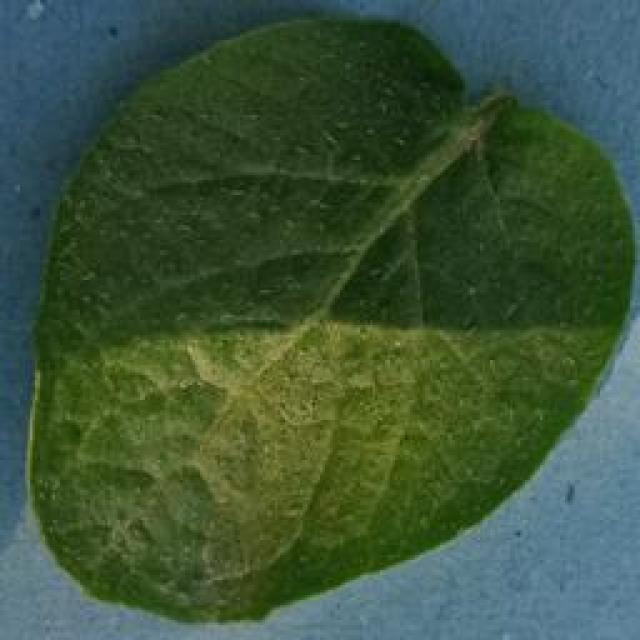Potato_Healthy: (6, 3, 635, 634)
